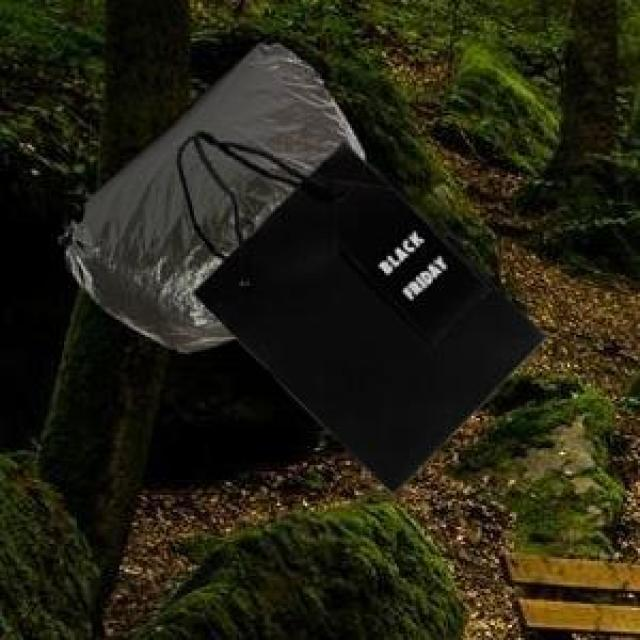miscellaneous trash: (56, 41, 361, 348)
paper: (173, 126, 542, 489)
